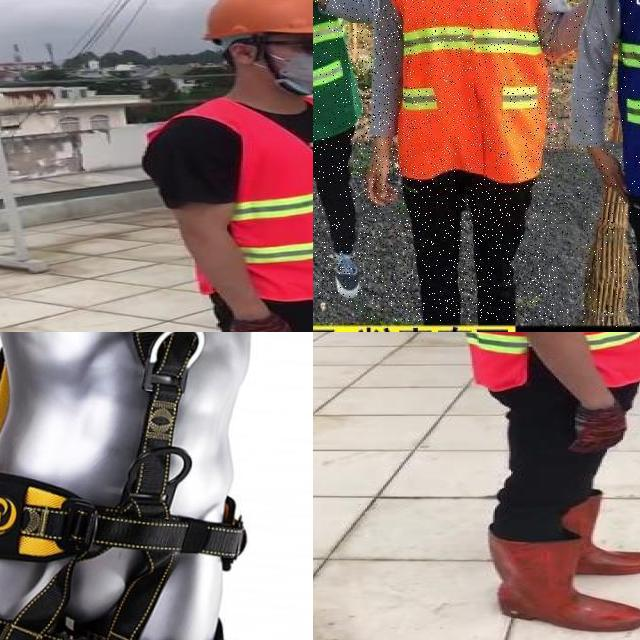Harness: (0, 332, 247, 640)
boots: (484, 530, 640, 633), (561, 493, 640, 577), (318, 237, 368, 300)
face_mask: (261, 28, 313, 96)
glasses: (287, 32, 313, 60)
hand_glove: (570, 404, 628, 454), (227, 316, 298, 332)
head_helmet: (191, 0, 313, 44)
person: (356, 0, 565, 321), (448, 332, 640, 640), (148, 0, 313, 332), (554, 0, 640, 328), (313, 0, 378, 308)
vest: (147, 96, 313, 302), (393, 0, 562, 180), (464, 332, 640, 390)
